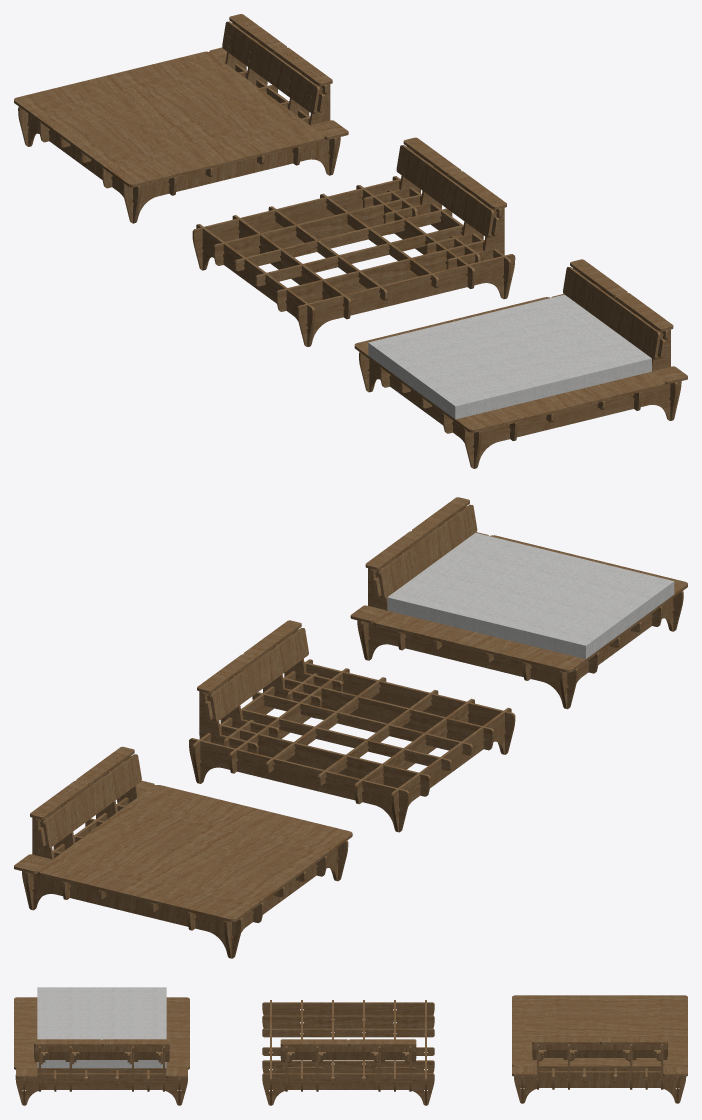
The picture shows the model from 3 angles, top to bottom: view 1: azimuth 30°, elevation 25°; view 2: azimuth 150°, elevation 25°; view 3: azimuth 270°, elevation 25°; orthographic projection. The views are drawn at different scales.
Bounding box in the file's own units: 2.26 × 0.8428 × 7.94.
Materials: 2 (2 with a texture image).
